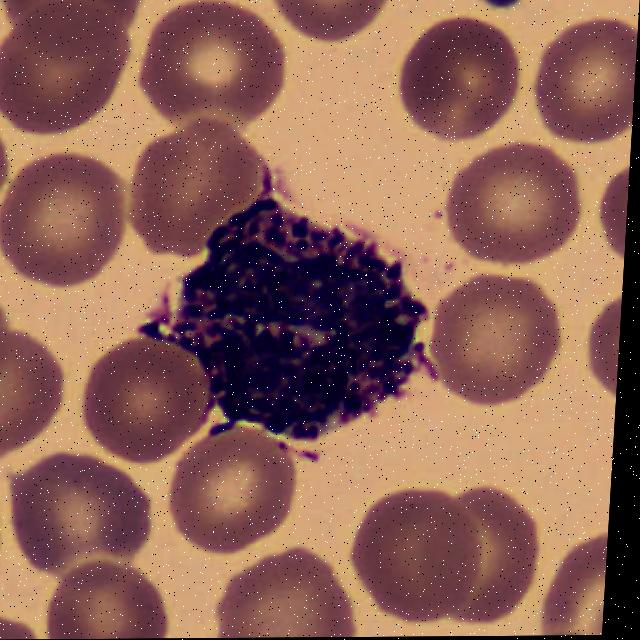basophil: (158, 195, 432, 432)
rbc: (127, 1, 292, 142), (340, 479, 489, 633), (122, 123, 277, 262), (161, 424, 303, 557), (421, 274, 563, 402), (0, 4, 128, 144), (437, 146, 584, 266), (0, 154, 123, 294), (1, 456, 145, 569), (396, 18, 527, 132), (525, 19, 639, 150), (214, 543, 366, 638), (83, 343, 207, 456), (442, 486, 544, 623), (46, 561, 171, 639), (0, 330, 71, 455), (270, 0, 384, 45), (577, 290, 623, 400), (590, 159, 630, 269), (0, 597, 36, 640), (0, 124, 15, 213), (0, 267, 11, 345), (0, 469, 6, 599)
